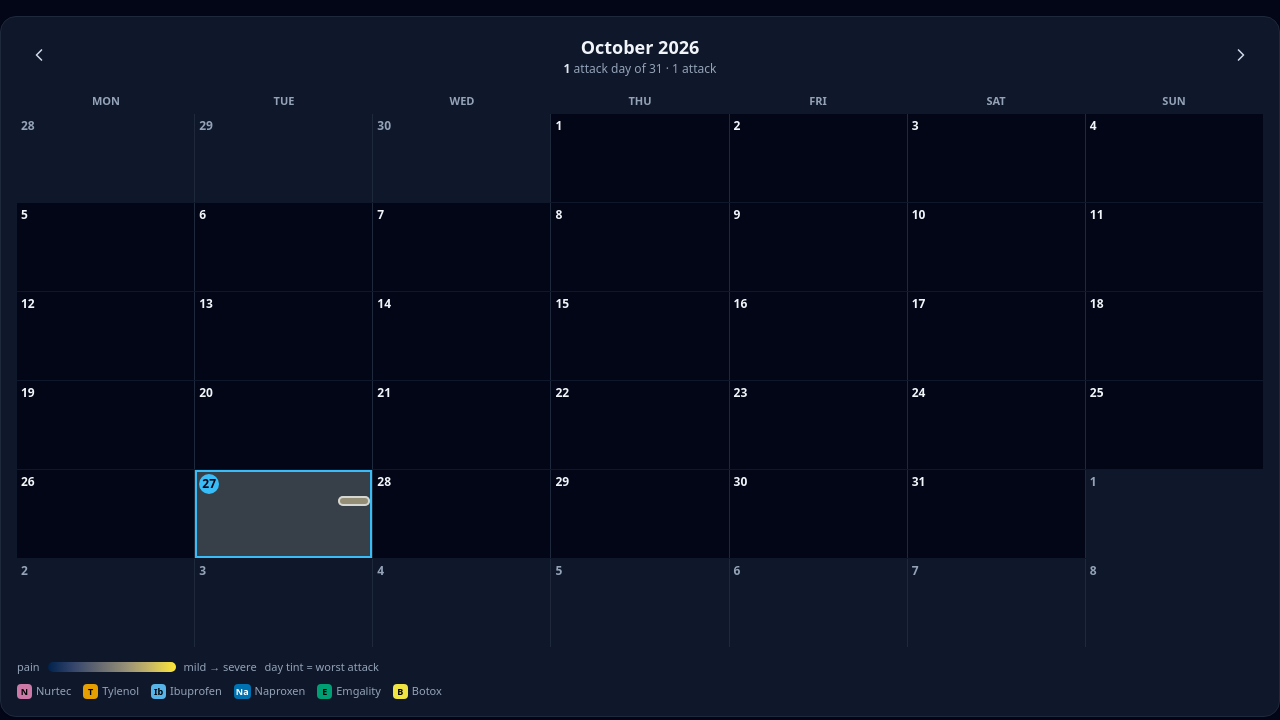
Test case: CalendarPage attack-day rule › shows Attack for today while an attack is active, even over a Well record
The image size is (1280, 720).
Click the button "27" at {"x": 284, "y": 514}, box [195,470,372,558]
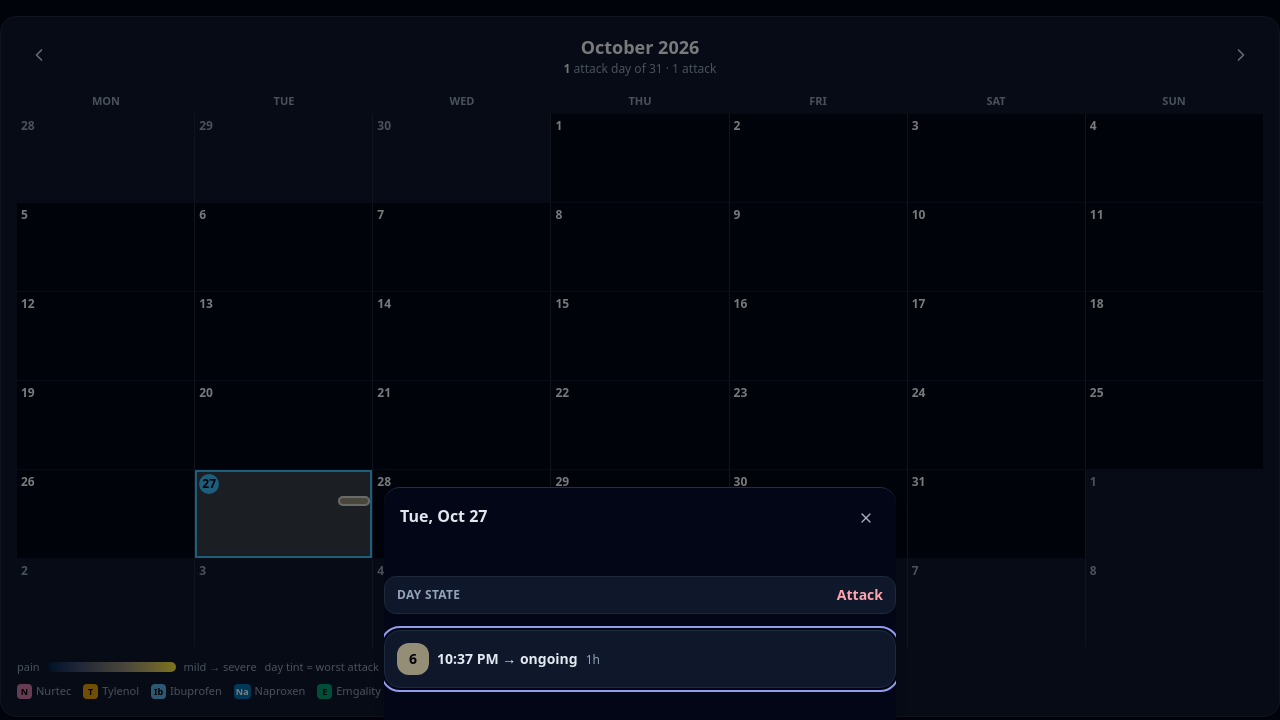
Result: the text "Day state" is shown at [397,587,460,603]
Result: the text "Attack" is shown at [837,585,883,605]
